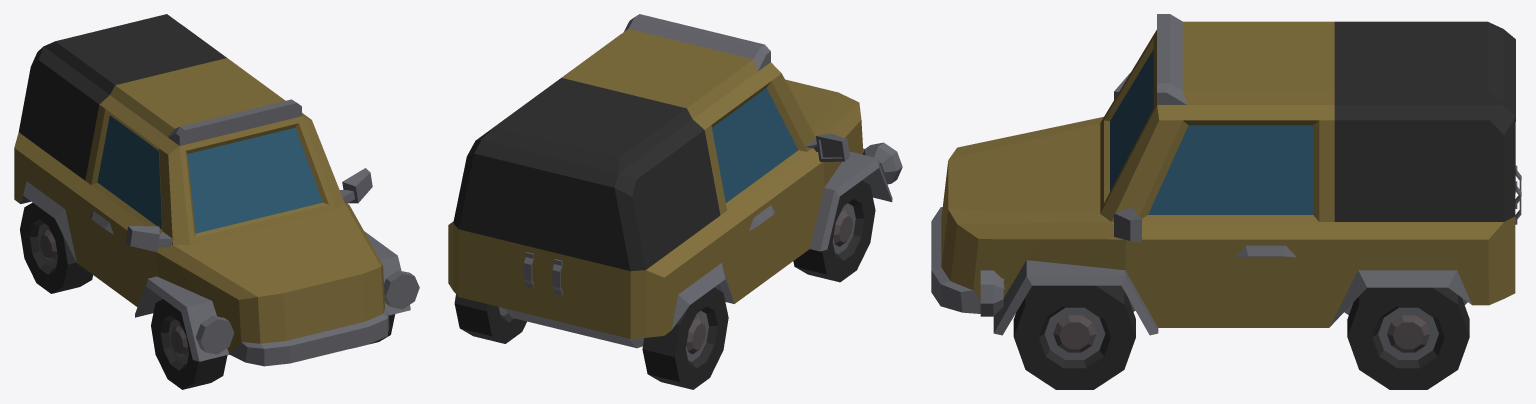
Rendered from LP_VehicleE.fbx.
3 views of the same model, side by side, from view 1: azimuth 30°, elevation 25°; view 2: azimuth 150°, elevation 25°; view 3: azimuth 270°, elevation 25° (orthographic). The views are drawn at different scales.
Parts seen in each view (by area): view 1: VehicleE; view 2: VehicleE; view 3: VehicleE.
Boxes of the visible parts, x1,y1,x2,y2 form: VehicleE: (14,14,419,389); VehicleE: (448,14,902,389); VehicleE: (931,14,1521,389).
Size of the model in its own units: 203 by 176 by 336.
